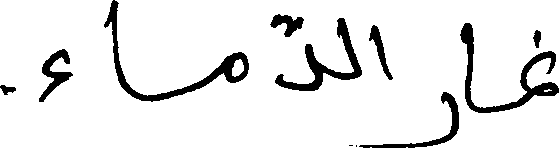ء: (34, 47, 72, 102)
ا: (107, 0, 130, 96), (370, 22, 395, 82), (459, 21, 475, 113)
د: (275, 11, 322, 91)
ر: (407, 89, 458, 146)
غ: (518, 27, 557, 107)
ل: (337, 16, 362, 88)
م: (222, 50, 247, 84)
